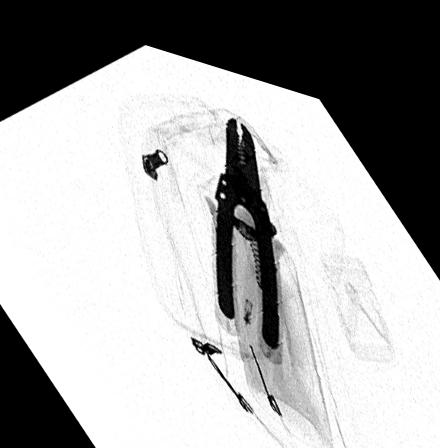Pliers: (214, 104, 279, 339)
